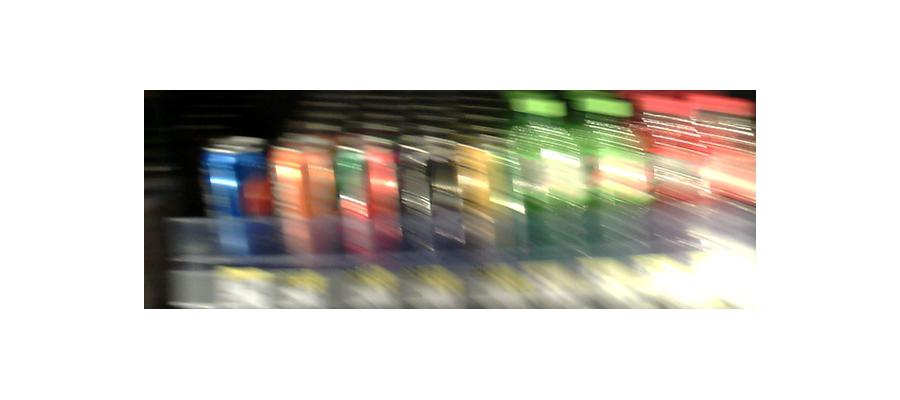bottle: (512, 81, 586, 281), (585, 93, 656, 275), (206, 133, 275, 267), (339, 133, 402, 263), (282, 141, 336, 266)
